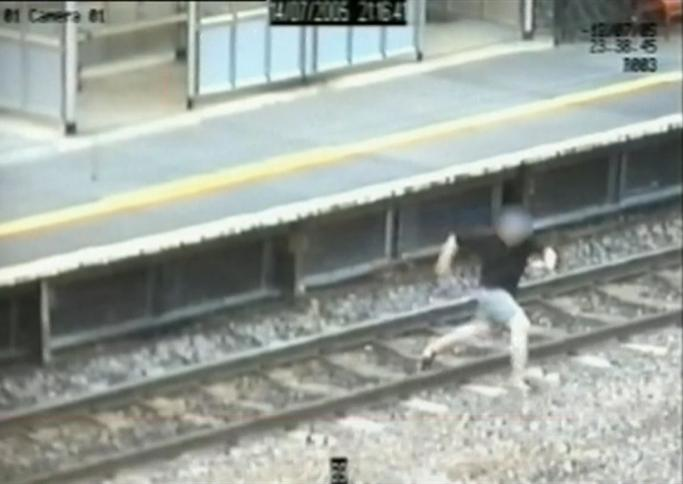person: (420, 204, 559, 392)
